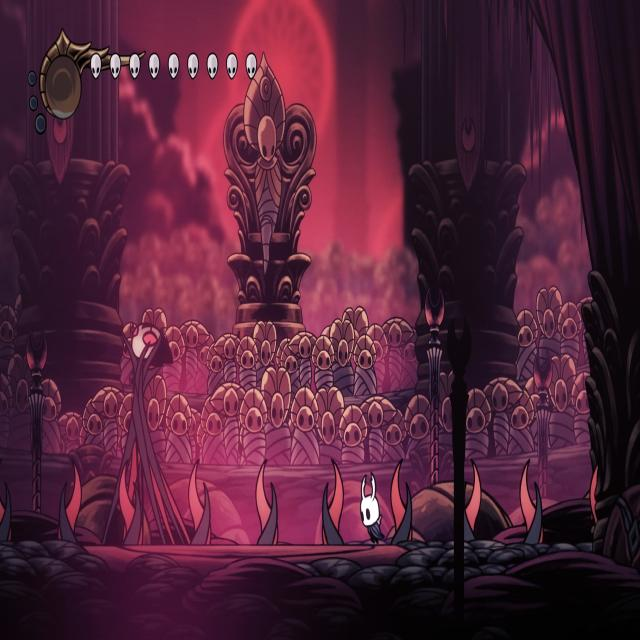Grimm: (115, 311, 185, 541)
Player: (358, 469, 386, 549)
Spikes: (518, 458, 544, 545), (389, 459, 414, 545), (58, 462, 83, 546), (322, 460, 346, 545), (256, 459, 280, 544), (189, 462, 213, 542), (462, 459, 482, 541), (0, 472, 14, 543)
